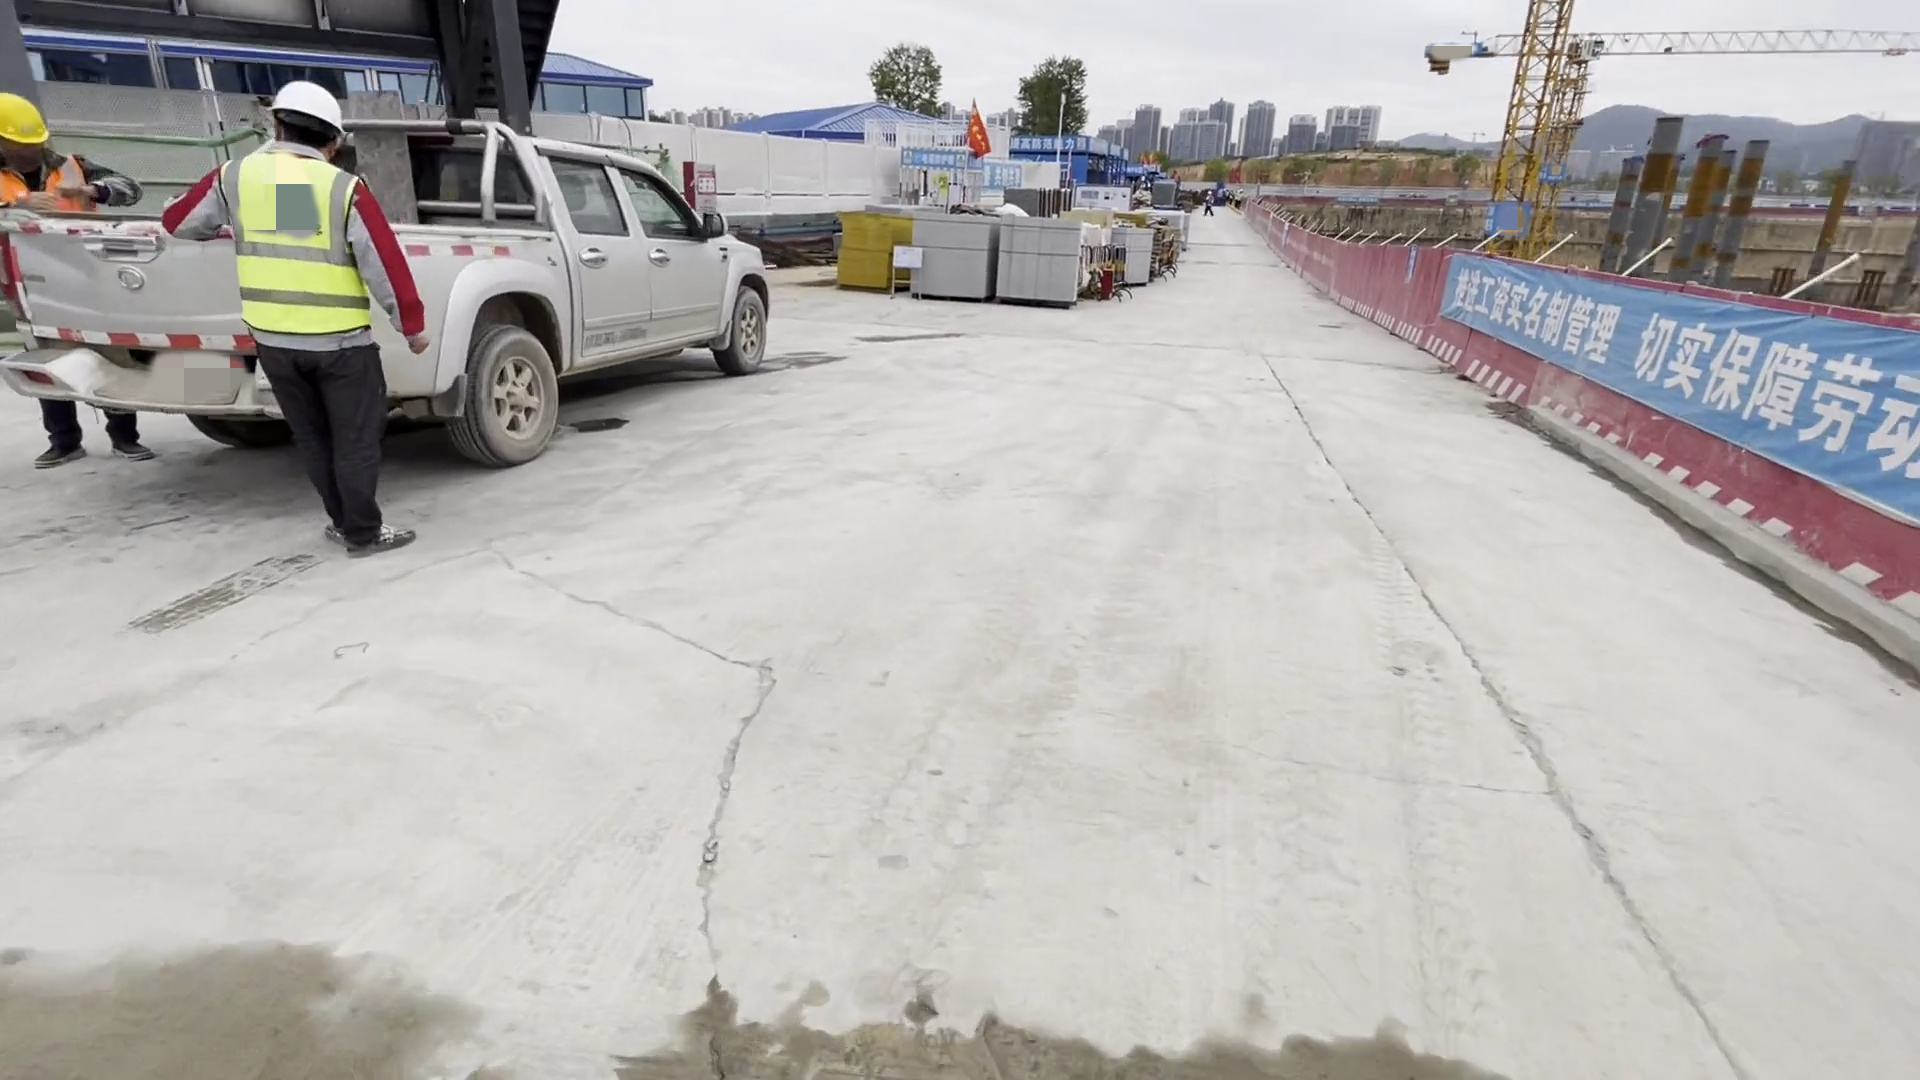board: (837, 212, 906, 296)
brick: (902, 209, 1079, 305), (1109, 217, 1156, 285)
fence: (1227, 199, 1920, 682)
helmet: (268, 73, 343, 130), (1, 87, 53, 141)
person: (222, 72, 418, 565), (4, 42, 130, 509)
slogan: (1430, 271, 1920, 534)
vest: (214, 151, 381, 342)
